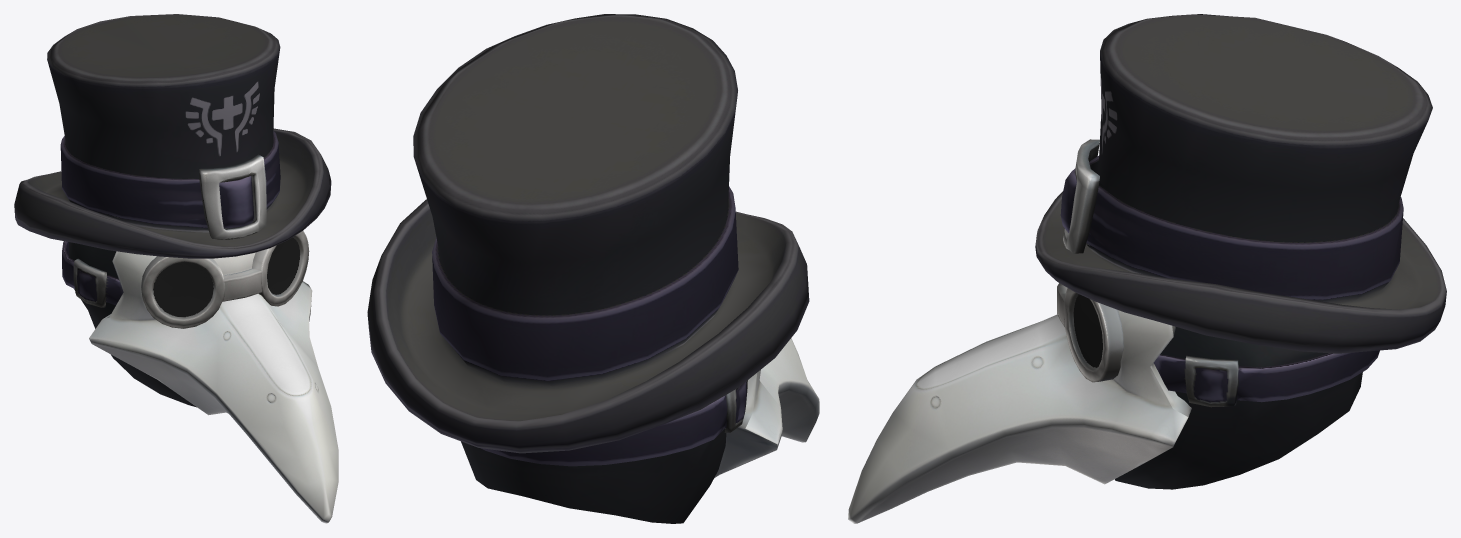
Rendered from headwear-halloween-05.glb.
The picture shows the model from 3 angles, left to right: view 1: azimuth 30°, elevation 25°; view 2: azimuth 150°, elevation 25°; view 3: azimuth 270°, elevation 25°; orthographic projection. The views are drawn at different scales.
Parts seen in each view (by area): view 1: Wolf3D_Headwear; view 2: Wolf3D_Headwear; view 3: Wolf3D_Headwear.
Part boxes in pixels (x1,y1,x2,y2): Wolf3D_Headwear: (14, 14, 338, 523); Wolf3D_Headwear: (367, 14, 819, 523); Wolf3D_Headwear: (848, 14, 1446, 523).
Size of the model in its own units: 0.2859 by 0.3723 by 0.424.
Materials: 1 (1 with a texture image).
